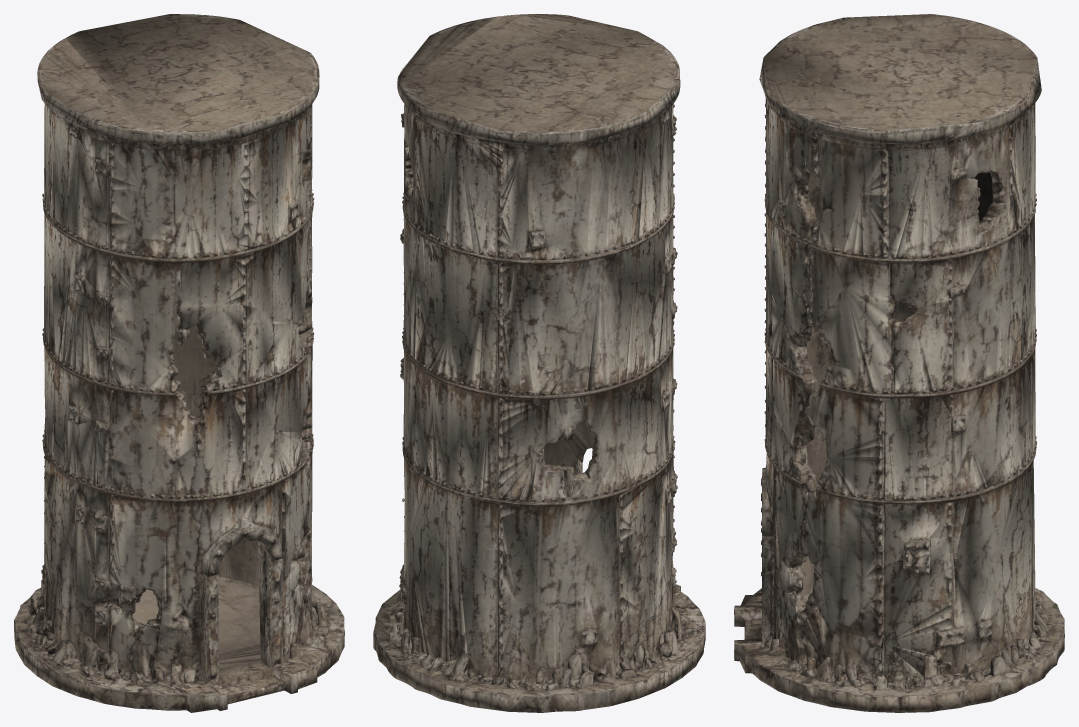
Rendered from gt_broken.glb.
3 views of the same model, side by side, from view 1: azimuth 30°, elevation 25°; view 2: azimuth 150°, elevation 25°; view 3: azimuth 270°, elevation 25° (orthographic).
Parts seen in each view (by area): view 1: gt_broken; view 2: gt_broken; view 3: gt_broken.
Boxes of the visible parts, x1,y1,x2,y2 form: gt_broken: [14, 14, 344, 712]; gt_broken: [373, 14, 705, 712]; gt_broken: [734, 14, 1064, 712].
Bounding box in the file's own units: 0.9992 × 1.9 × 0.9991.
Materials: 1 (1 with a texture image).
